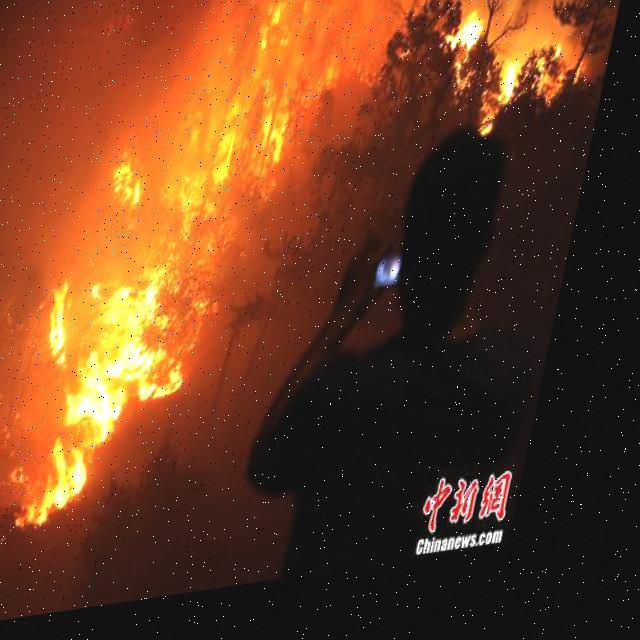Fire: (29, 0, 332, 540), (418, 0, 608, 149), (0, 433, 28, 557)
